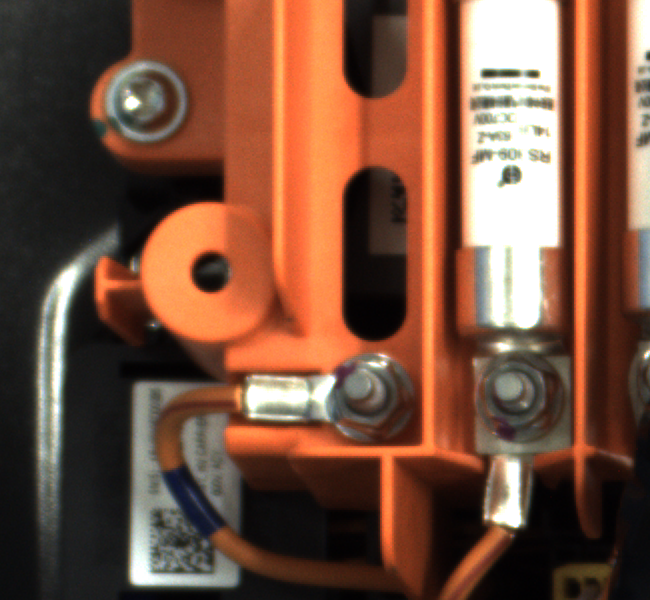screw_m: (82, 51, 210, 152)
screw_s: (315, 344, 418, 452), (470, 348, 574, 451)
